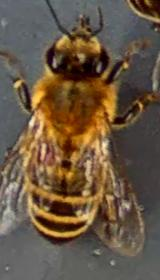varroa_mite: (32, 136, 56, 164)
